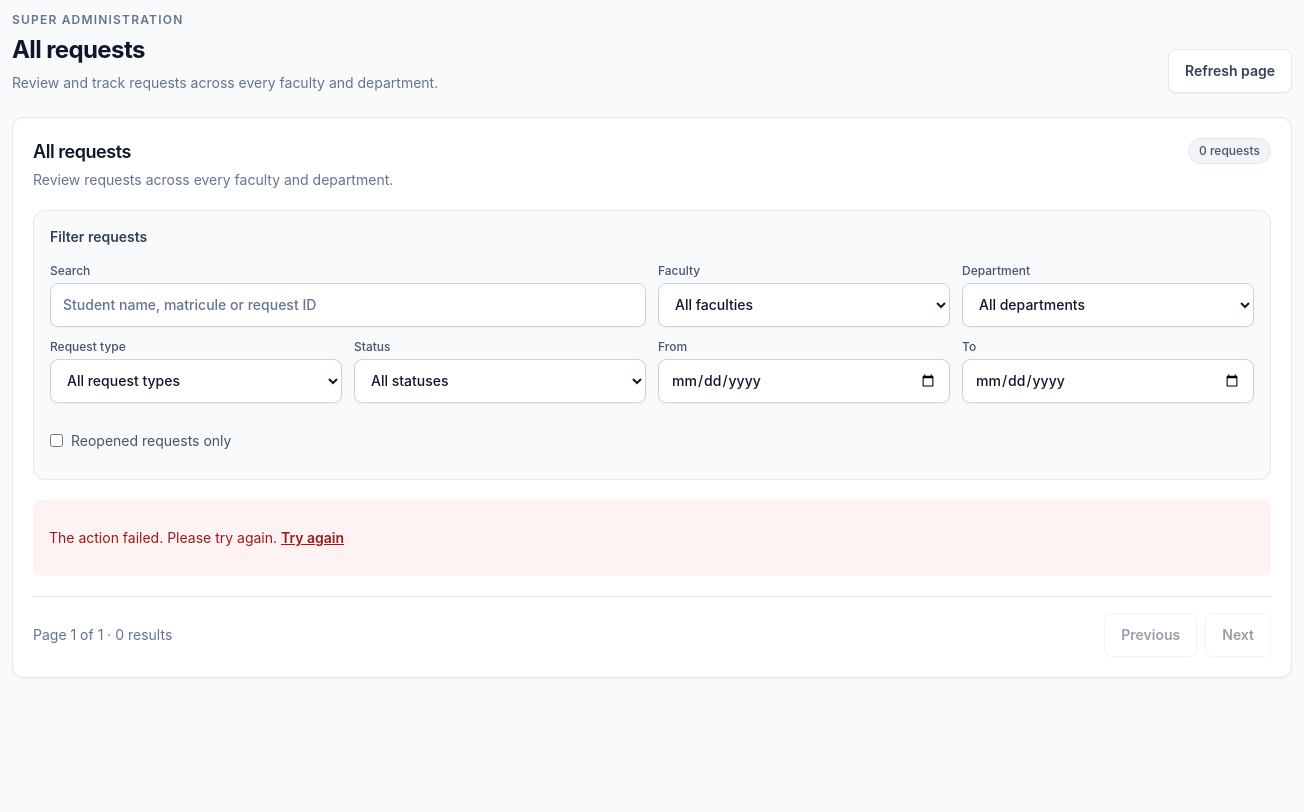
Test: Super Admin pages › shows collection failure with a retry instead of presenting it as empty data
expect the message "The action failed. Please try again. Try again" is shown: met, box [33, 500, 1271, 576]
expect the element with id "admin-requests" does not show "No requests yet": met
Click the button "Try again" at (313, 538), box [281, 516, 344, 560]
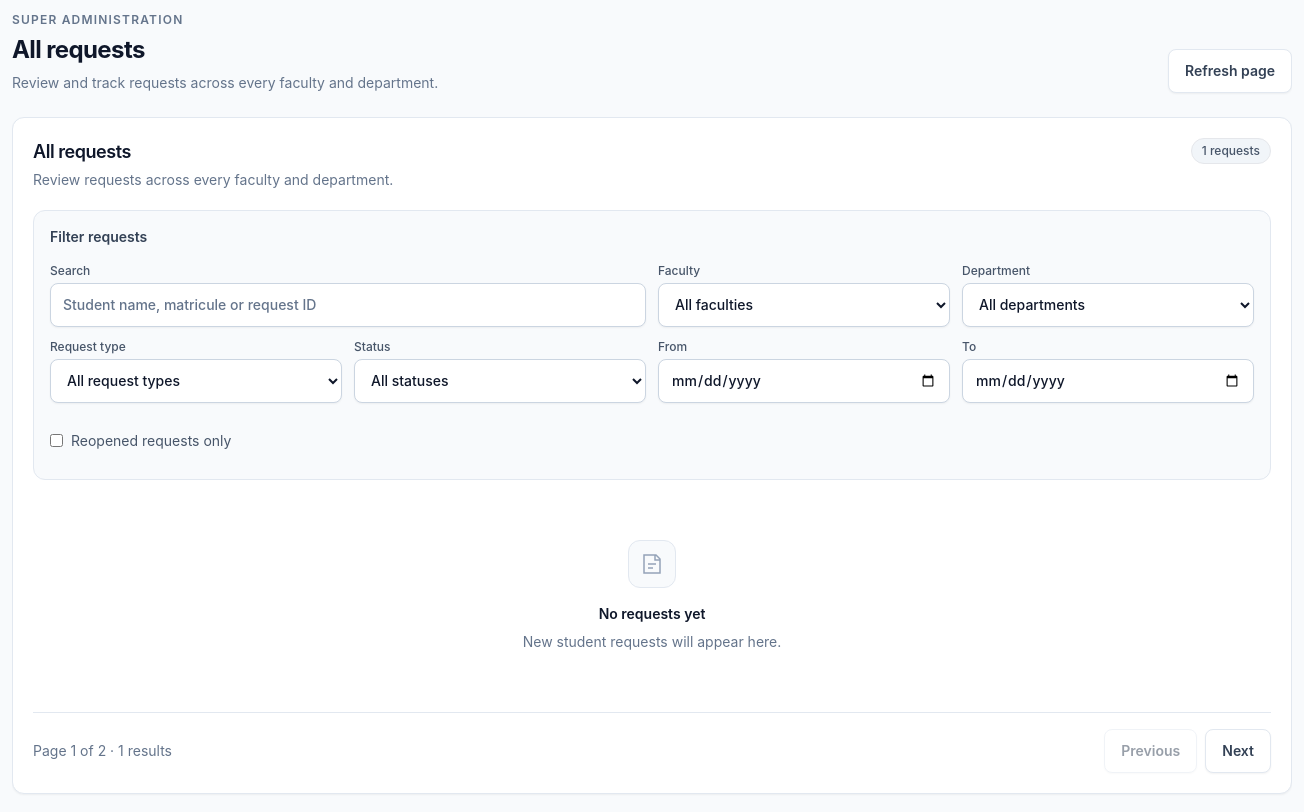
expect the element with id "admin-requests" shows "No requests yet": met, box [599, 605, 705, 622]
